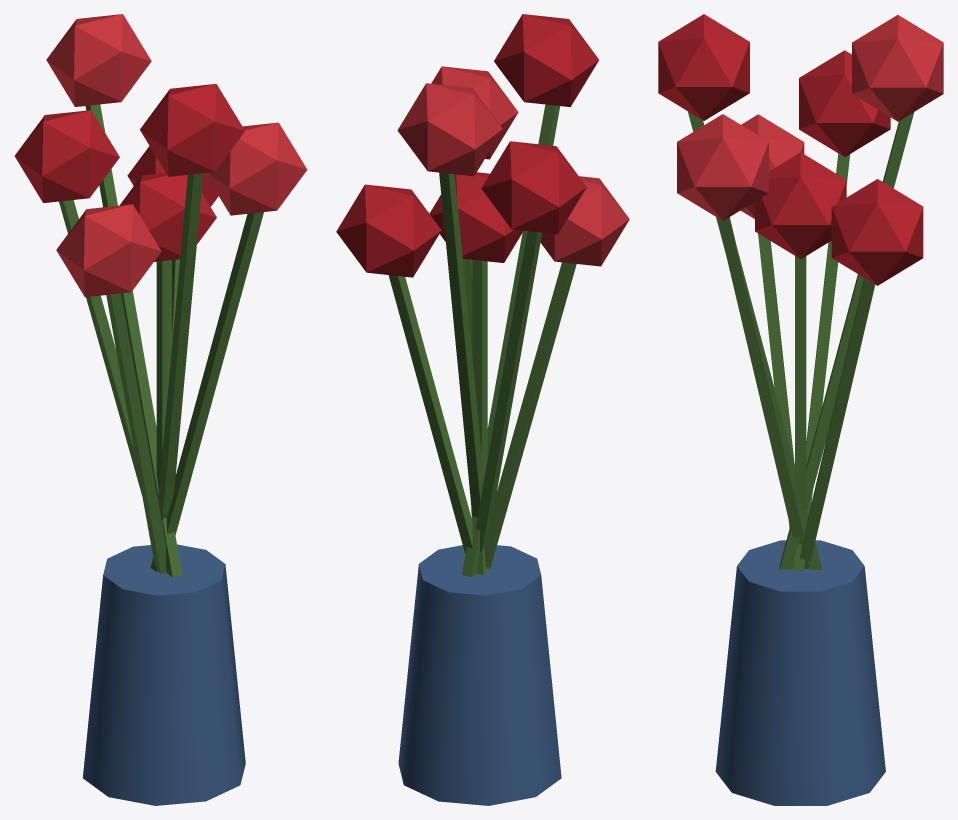
The model's file is vase-roses.glb.
3 renders of one model, left to right at view 1: azimuth 30°, elevation 25°; view 2: azimuth 150°, elevation 25°; view 3: azimuth 270°, elevation 25°, orthographic. The views are drawn at different scales.
Parts seen in each view (by area): view 1: vase-roses; view 2: vase-roses; view 3: vase-roses.
Boxes of the visible parts, left/top/right/bottom form: vase-roses: left=14, top=14, right=307, bottom=805; vase-roses: left=336, top=14, right=629, bottom=805; vase-roses: left=658, top=14, right=943, bottom=805.
Bounding box in the file's own units: 0.1724 × 0.5723 × 0.2012.
